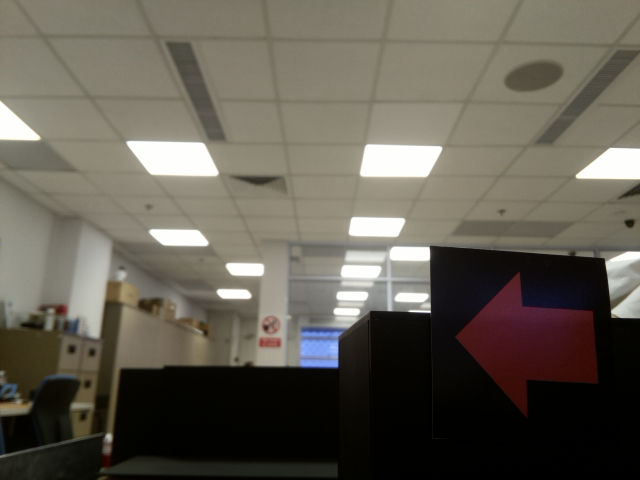left: (436, 272, 603, 425)
